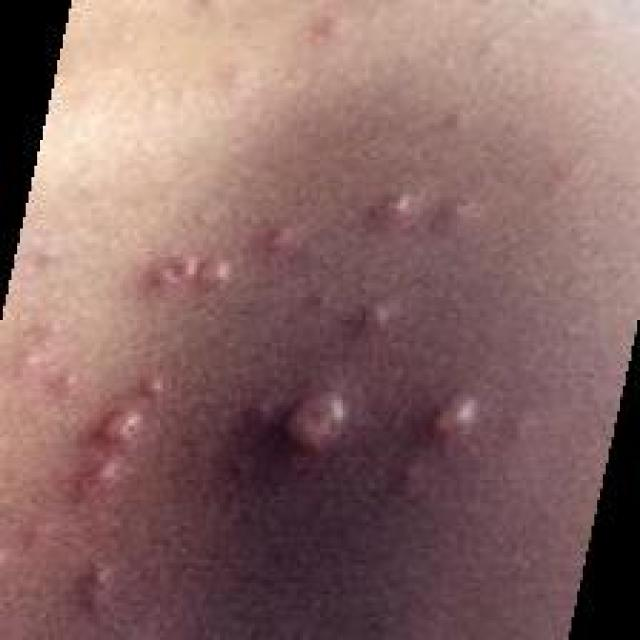others: (27, 66, 546, 640)
